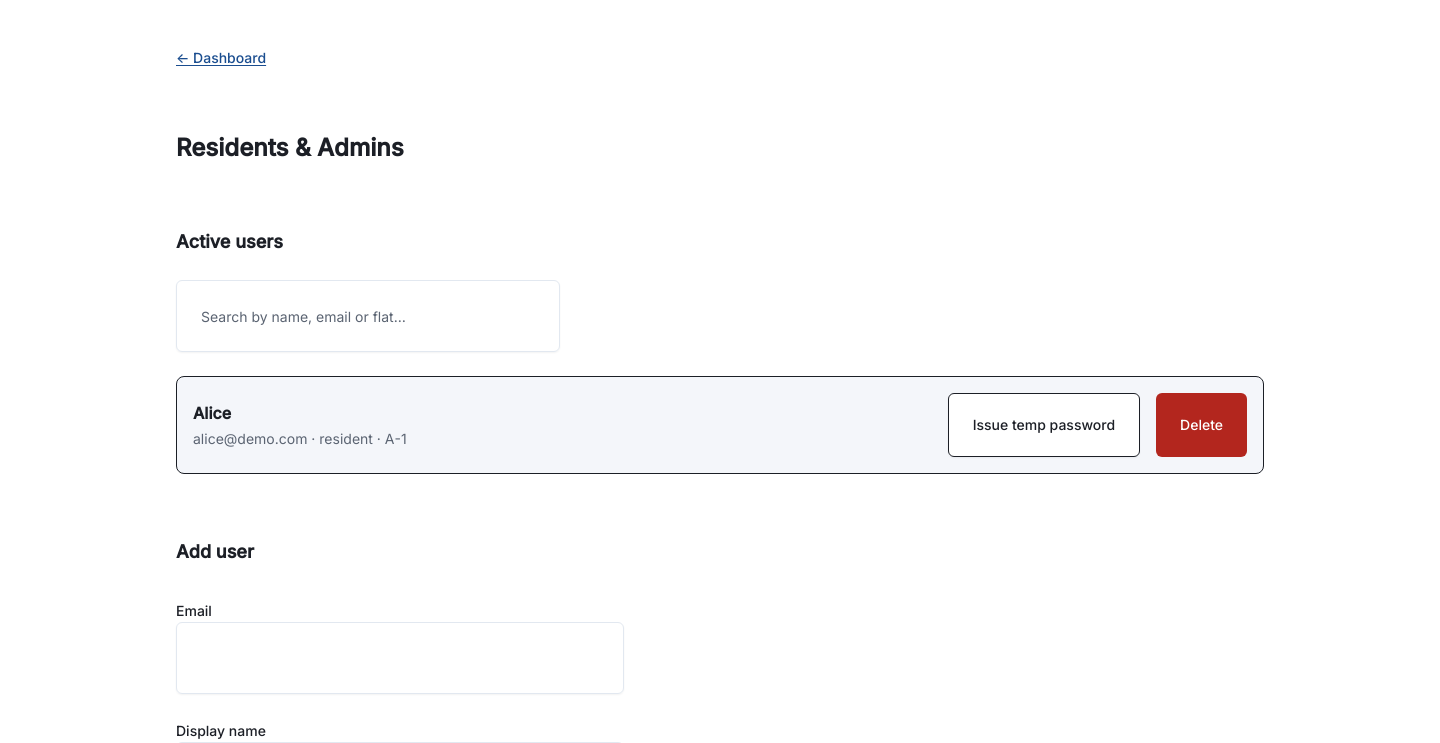
it: TenantUsers › search shows empty-state message when no users match
Type "zzz" into the field named "search users". click: point(368, 316)
box: [176, 280, 560, 352]
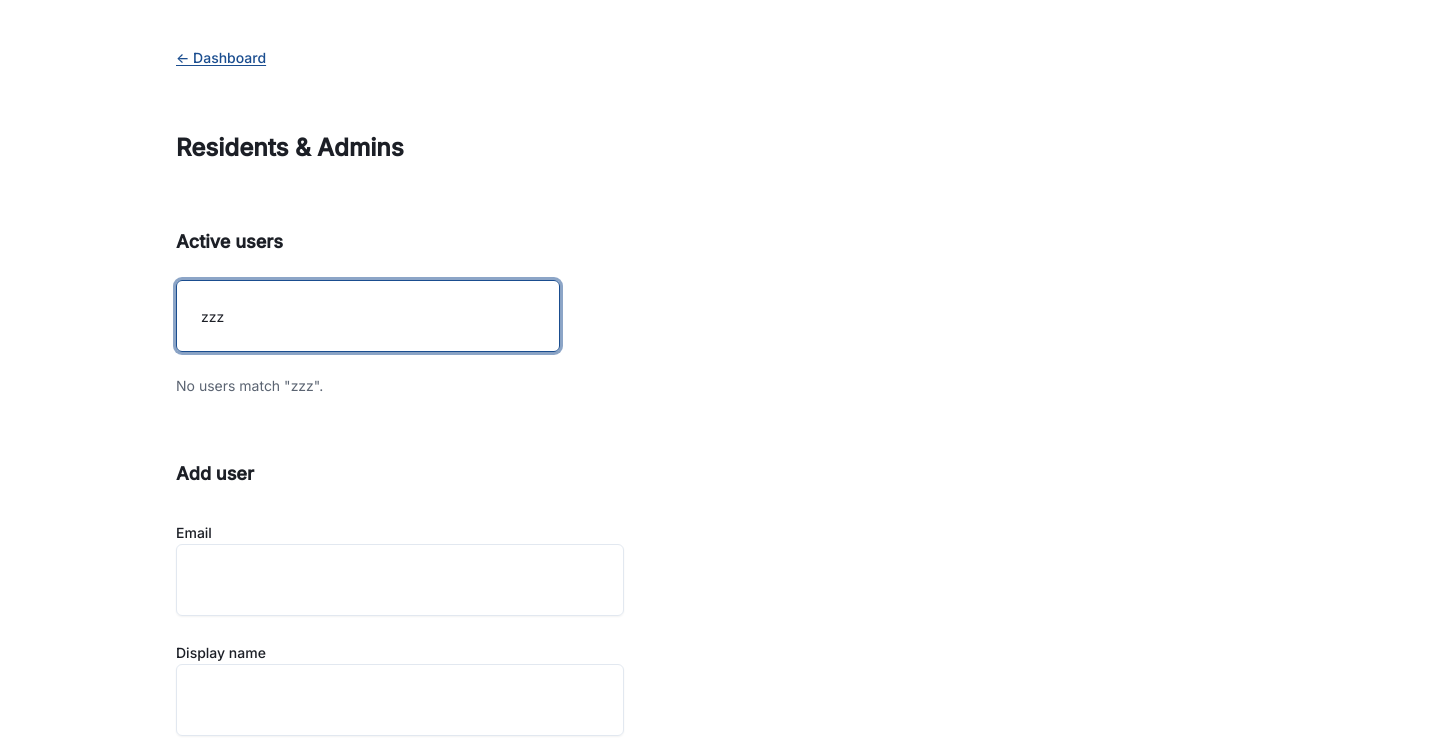
Check: the text "No users match \"zzz\"." is shown, box [176, 377, 323, 394]
